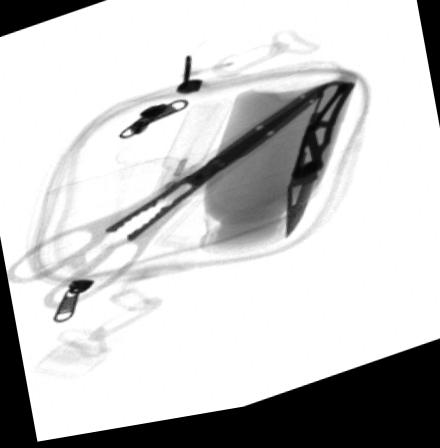Knife: (284, 91, 354, 250)
Scissors: (9, 94, 325, 311)
